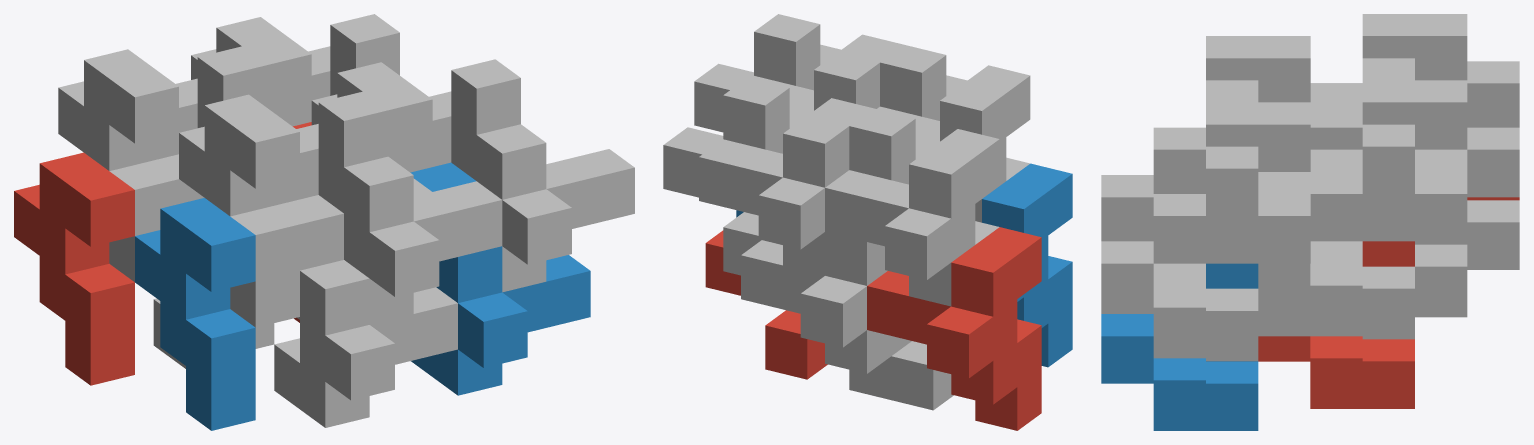
The model's file is tiling.obj.
3 views of the same model, side by side, from view 1: azimuth 30°, elevation 25°; view 2: azimuth 150°, elevation 25°; view 3: azimuth 270°, elevation 25° (orthographic). The views are drawn at different scales.
Parts seen in each view (by area): view 1: copy_2_domain_4, copy_2_domain_2, copy_2_domain_8, copy_1_domain_2, copy_1_domain_1, copy_1_domain_4, copy_1_domain_3, copy_2_domain_6, copy_1_domain_8, copy_1_domain_7, copy_2_domain_3, copy_2_domain_7 (+1 smaller); view 2: copy_1_domain_1, copy_1_domain_3, copy_1_domain_7, copy_1_domain_5, copy_1_domain_2, copy_2_domain_7, copy_1_domain_4, copy_2_domain_8, copy_1_domain_8, copy_2_domain_3, copy_2_domain_4, copy_2_domain_5 (+1 smaller); view 3: copy_2_domain_8, copy_2_domain_7, copy_1_domain_7, copy_2_domain_6, copy_1_domain_8, copy_2_domain_5, copy_1_domain_3, copy_2_domain_4, copy_1_domain_5, copy_1_domain_4, copy_2_domain_3, copy_1_domain_6.
Part boxes in pixels (bbox=[...]): copy_2_domain_4: bbox=[318, 91, 502, 324]; copy_2_domain_2: bbox=[274, 195, 457, 427]; copy_2_domain_8: bbox=[451, 59, 634, 292]; copy_1_domain_2: bbox=[135, 198, 255, 430]; copy_1_domain_1: bbox=[14, 152, 134, 385]; copy_1_domain_4: bbox=[179, 94, 318, 327]; copy_1_domain_3: bbox=[58, 49, 197, 281]; copy_2_domain_6: bbox=[410, 162, 590, 395]; copy_1_domain_8: bbox=[311, 62, 451, 196]; copy_1_domain_7: bbox=[191, 17, 330, 126]; copy_2_domain_3: bbox=[197, 46, 267, 127]; copy_2_domain_7: bbox=[330, 14, 399, 95]; copy_1_domain_1: bbox=[867, 227, 1041, 430]; copy_1_domain_3: bbox=[825, 129, 999, 306]; copy_1_domain_7: bbox=[699, 98, 872, 275]; copy_1_domain_5: bbox=[741, 232, 911, 399]; copy_1_domain_2: bbox=[982, 163, 1072, 367]; copy_2_domain_7: bbox=[663, 77, 810, 275]; copy_1_domain_4: bbox=[877, 65, 1030, 222]; copy_2_domain_8: bbox=[694, 14, 840, 132]; copy_1_domain_8: bbox=[751, 34, 903, 113]; copy_2_domain_3: bbox=[849, 108, 936, 184]; copy_2_domain_4: bbox=[880, 45, 967, 120]; copy_2_domain_5: bbox=[705, 230, 827, 379]; copy_2_domain_8: bbox=[1101, 146, 1258, 358]; copy_2_domain_7: bbox=[1258, 124, 1414, 336]; copy_1_domain_7: bbox=[1362, 80, 1519, 244]; copy_2_domain_6: bbox=[1101, 263, 1258, 430]; copy_1_domain_8: bbox=[1206, 102, 1362, 263]; copy_2_domain_5: bbox=[1258, 241, 1414, 408]; copy_1_domain_3: bbox=[1362, 14, 1519, 127]; copy_2_domain_4: bbox=[1101, 80, 1258, 241]; copy_1_domain_5: bbox=[1362, 200, 1519, 339]; copy_1_domain_4: bbox=[1206, 36, 1362, 105]; copy_2_domain_3: bbox=[1310, 58, 1414, 149]; copy_1_domain_6: bbox=[1206, 288, 1310, 361].
Bounding box in the file's own units: 10 × 6 × 8.
